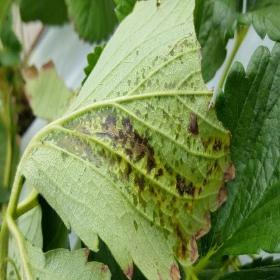Angular Leafspot: (22, 0, 235, 279), (19, 236, 112, 279)
